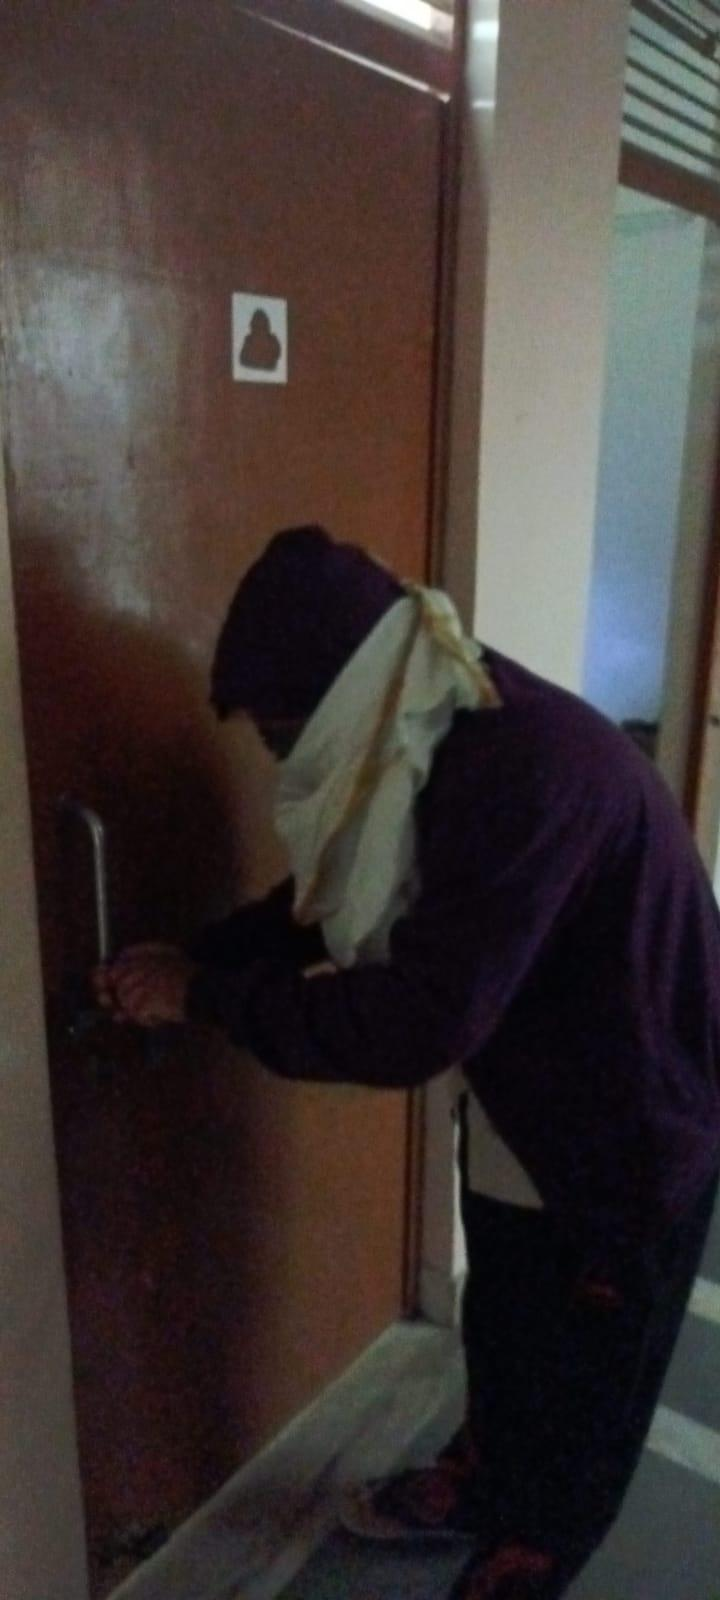suspicion: (0, 485, 720, 1600), (135, 510, 720, 1600)
